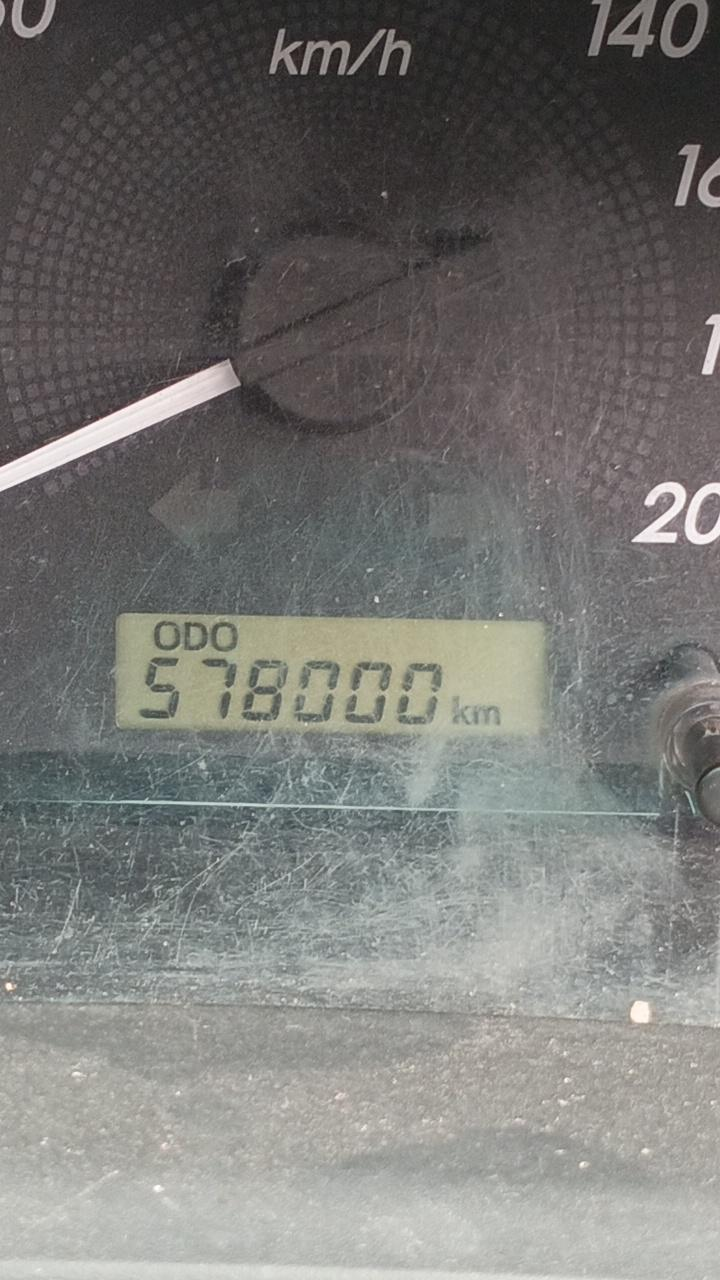0: (344, 661, 393, 724), (397, 662, 443, 727), (293, 660, 340, 723)
5: (137, 657, 182, 721)
7: (200, 658, 237, 721)
8: (240, 657, 288, 722)
X: (153, 620, 182, 651), (210, 621, 238, 652), (184, 622, 208, 653), (473, 704, 502, 727), (452, 695, 472, 725)
odometer: (112, 611, 551, 745)
